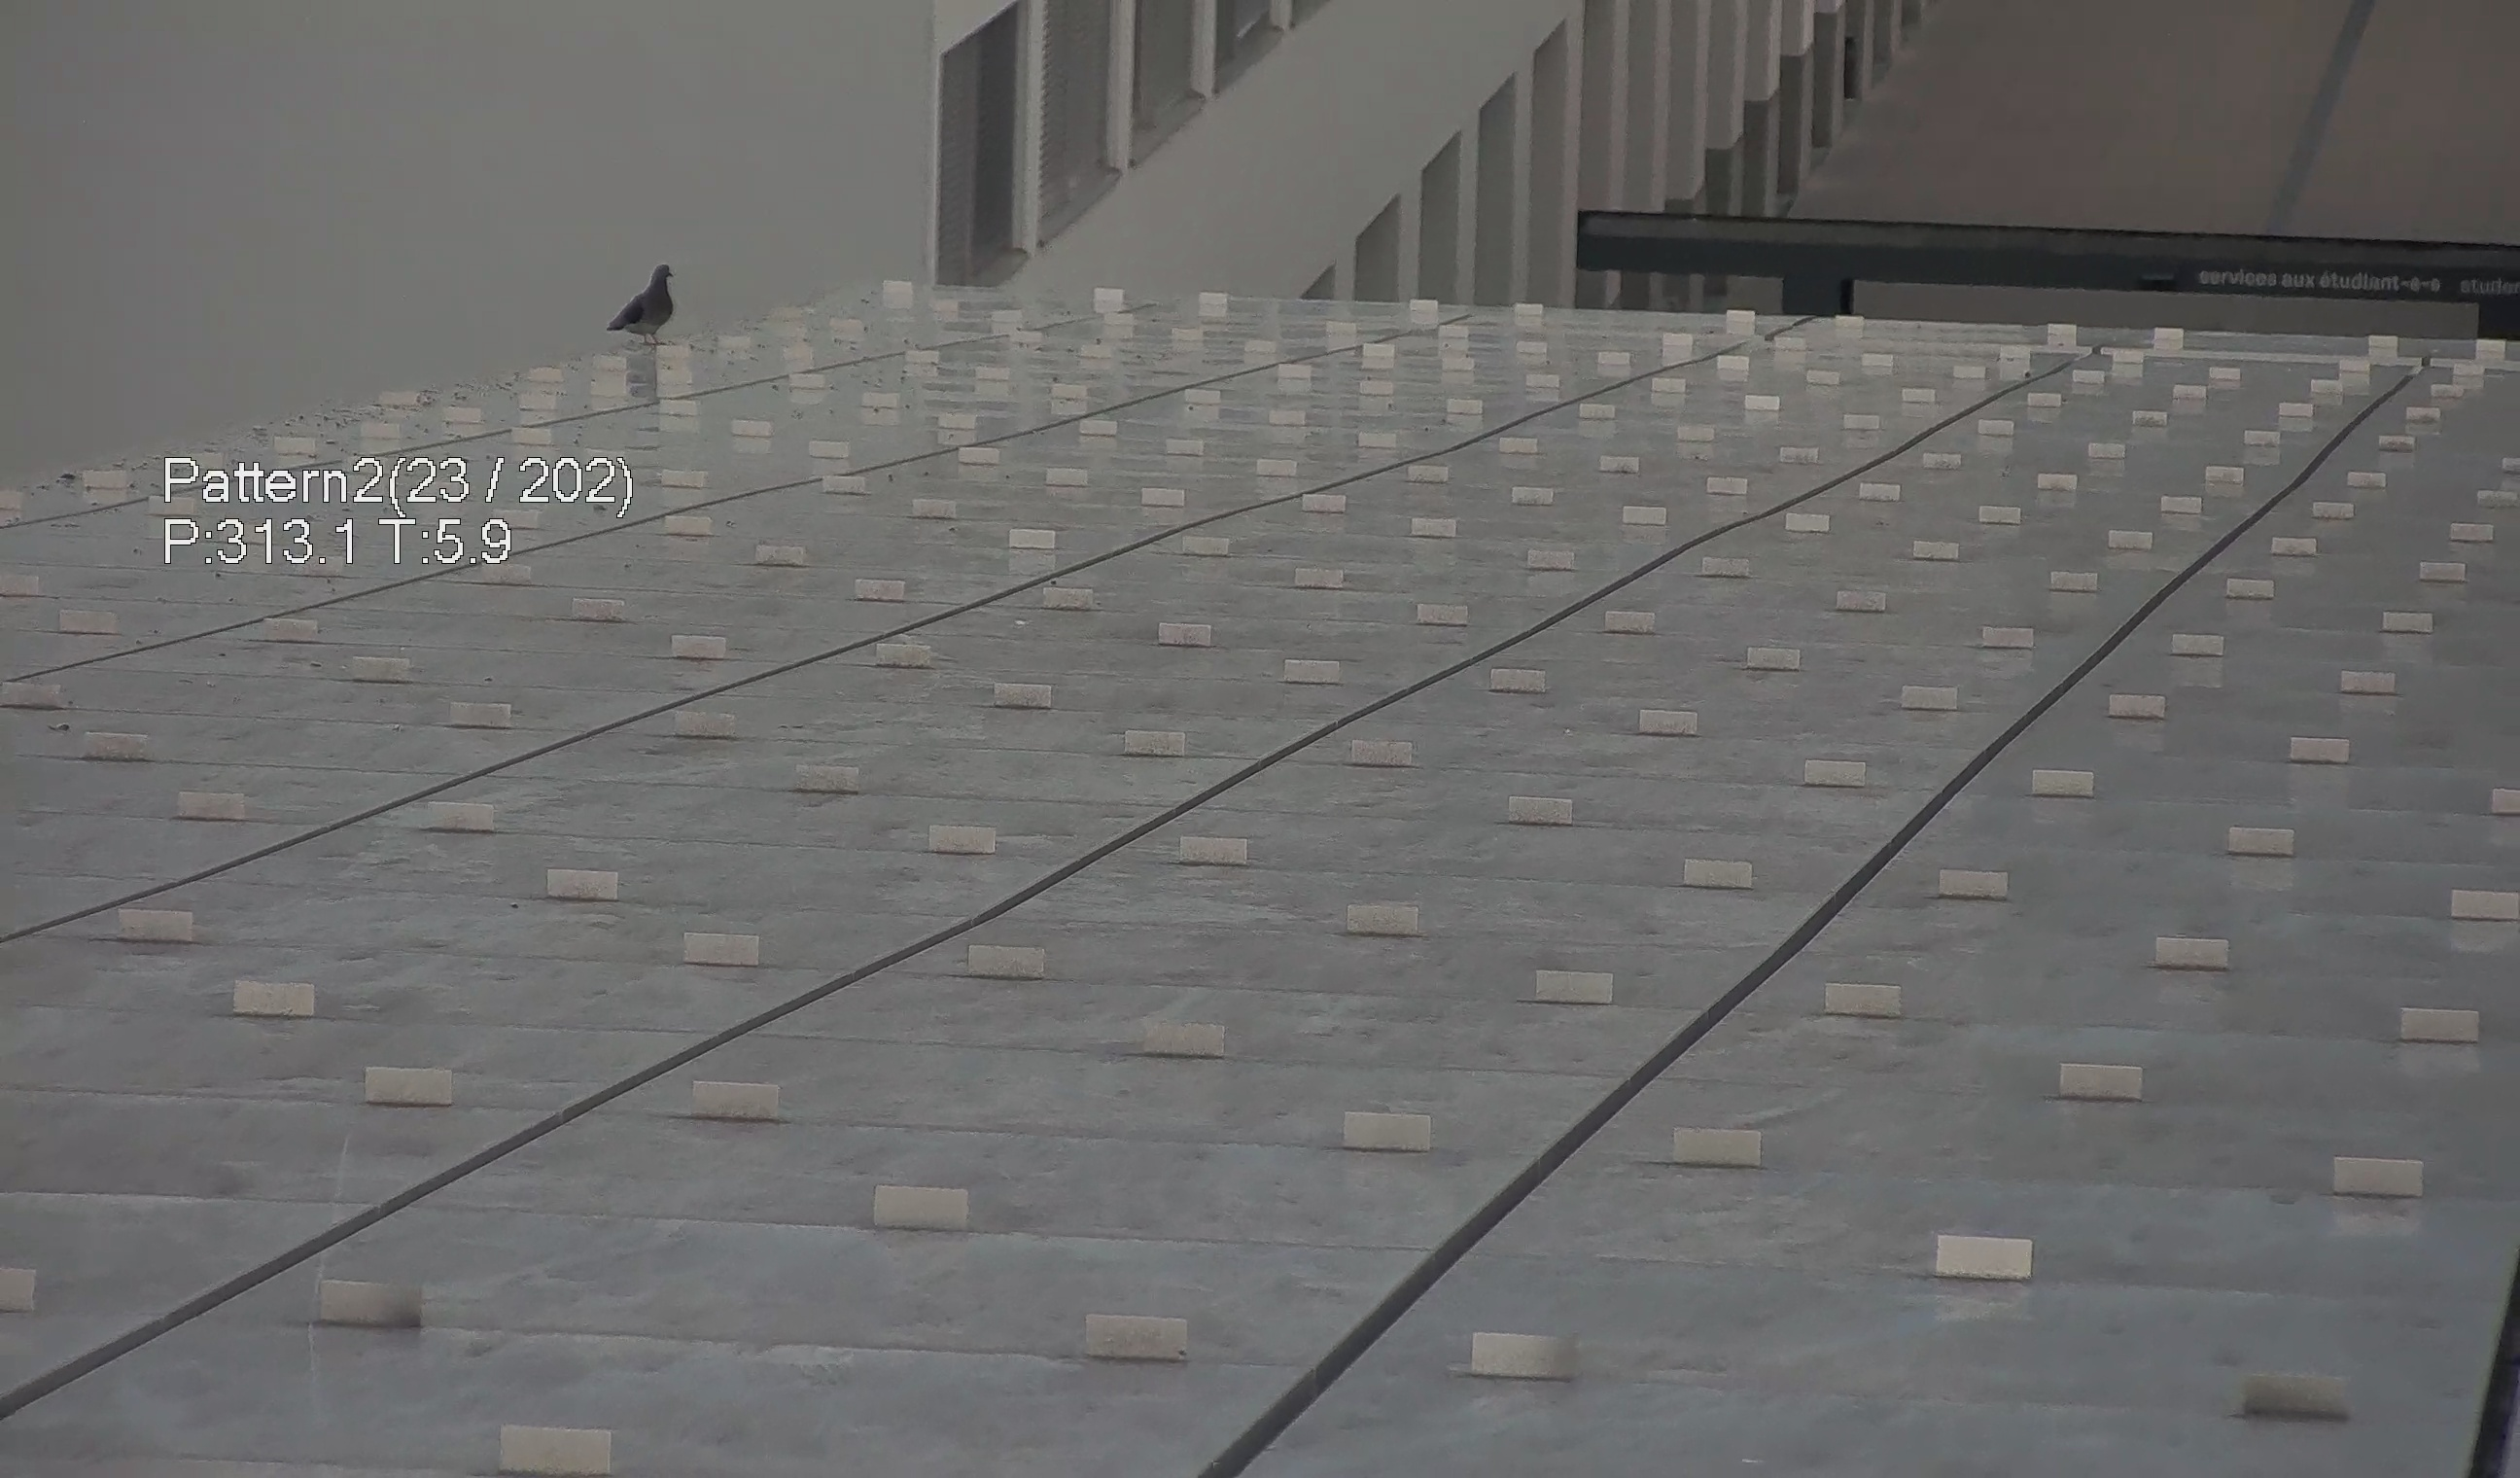Pigeon: (598, 257, 688, 352)
